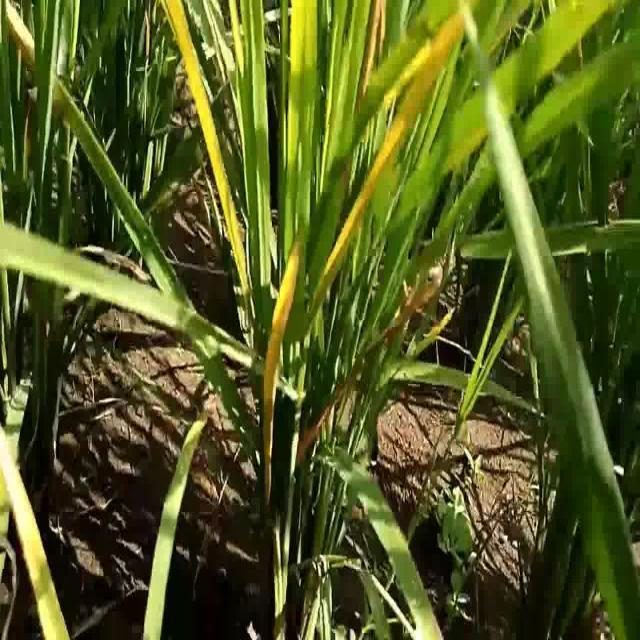Rice Tungro: (318, 13, 474, 331), (162, 3, 248, 293), (261, 250, 303, 497)
